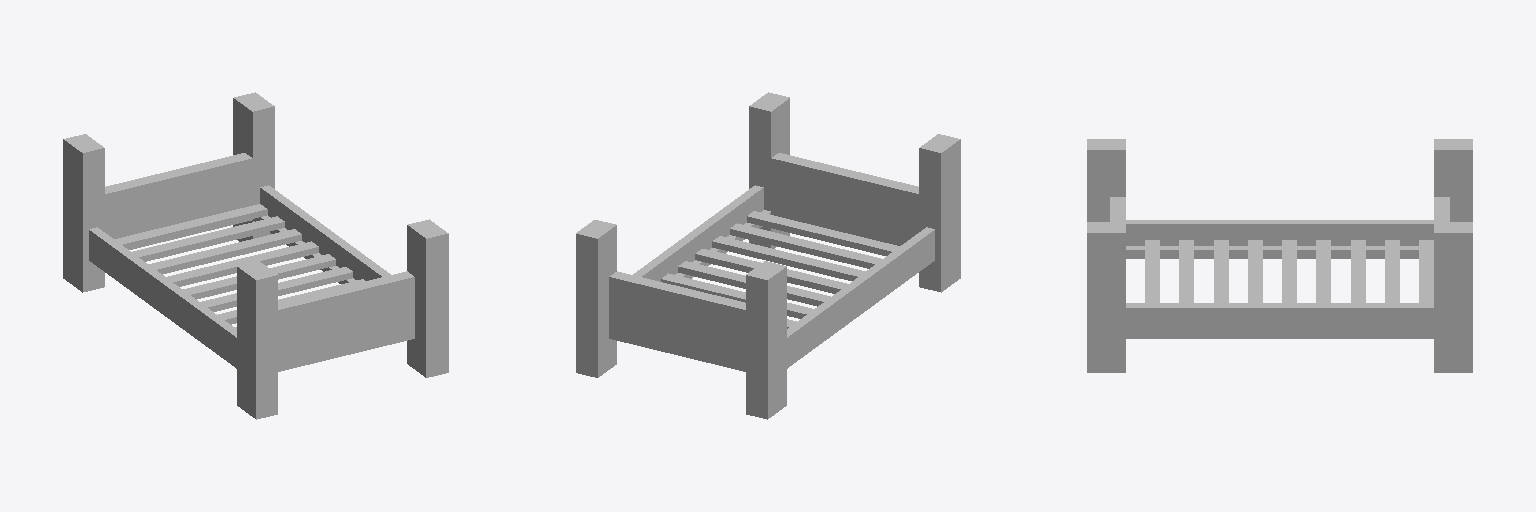
File: Bed.obj
The picture shows the model from 3 angles: view 1: azimuth 30°, elevation 25°; view 2: azimuth 150°, elevation 25°; view 3: azimuth 270°, elevation 25°; orthographic projection.
Parts seen in each view (by area): view 1: Bed.001; view 2: Bed.001; view 3: Bed.001.
Boxes of the visible parts, x1,y1,x2,y2 form: Bed.001: [63, 92, 448, 419]; Bed.001: [576, 92, 960, 419]; Bed.001: [1087, 139, 1472, 372].
Size of the model in its own units: 7.1 by 4.92 by 12.34.